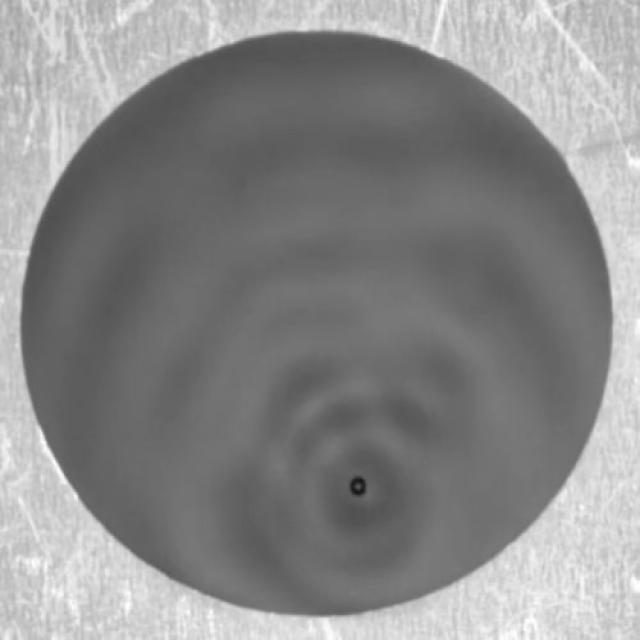droplet: (348, 475, 370, 499)
